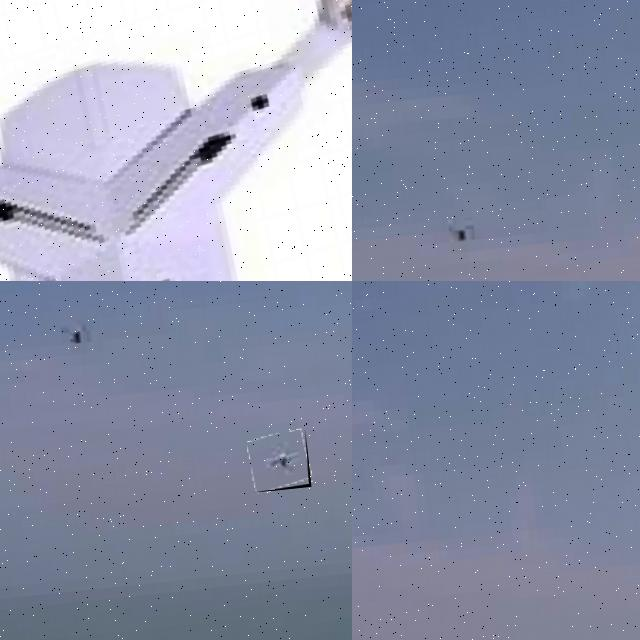drone: (0, 0, 352, 281), (247, 430, 311, 492)
